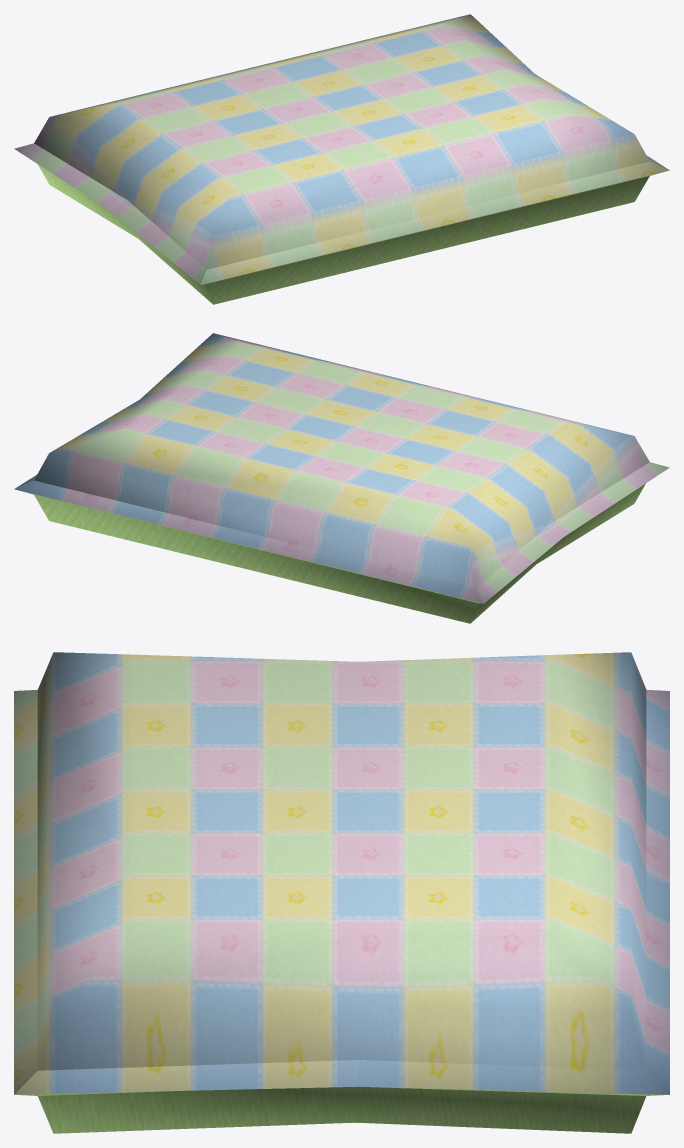
Rendered from Childrens_Pillow_G3.FBX.
3 renders of one model, top to bottom at view 1: azimuth 30°, elevation 25°; view 2: azimuth 150°, elevation 25°; view 3: azimuth 270°, elevation 25°, orthographic. The views are drawn at different scales.
Parts seen in each view (by area): view 1: Pillow; view 2: Pillow; view 3: Pillow.
Boxes of the visible parts, bbox=[...] form: Pillow: bbox=[14, 14, 669, 304]; Pillow: bbox=[14, 333, 669, 623]; Pillow: bbox=[14, 652, 669, 1133].
Bounding box in the file's own units: 194 × 41.64 × 133.
